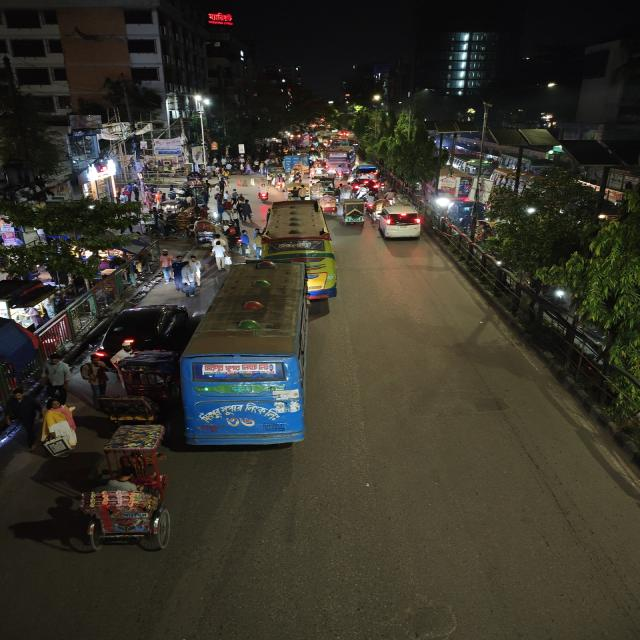bus: (178, 260, 316, 454), (254, 197, 338, 303), (324, 147, 354, 175)
car: (89, 299, 188, 357), (372, 202, 426, 242), (352, 165, 379, 181)
motorcycle: (256, 184, 272, 202)
pedestrian: (37, 398, 81, 453), (2, 386, 40, 449), (43, 352, 72, 396), (181, 254, 205, 288), (209, 240, 230, 270), (157, 250, 175, 284), (236, 227, 253, 256), (236, 198, 254, 222), (171, 253, 186, 281)
rickshaw: (54, 442, 180, 556), (91, 396, 167, 460), (189, 218, 221, 246), (340, 201, 368, 226), (318, 190, 340, 214), (338, 182, 360, 200)
truck: (281, 155, 309, 172)
